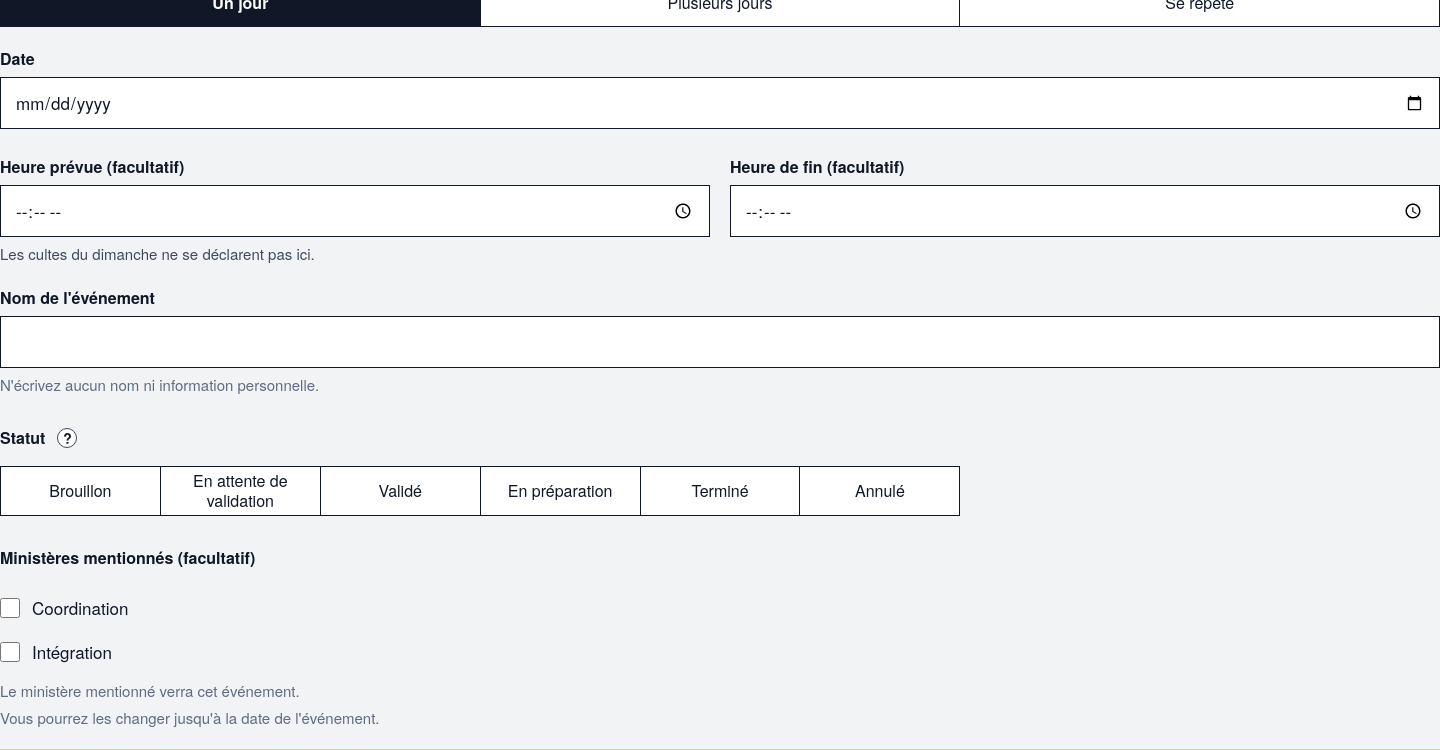
Test: « Ajouter un événement » (maquette 11) › date passée : refusée avant l’envoi, sous le champ, avec le lien « Signaler une difficulté »
Type "2026-10-05" into the date field labelled "Date" at [720, 103], box 0,77 -> 1439,129
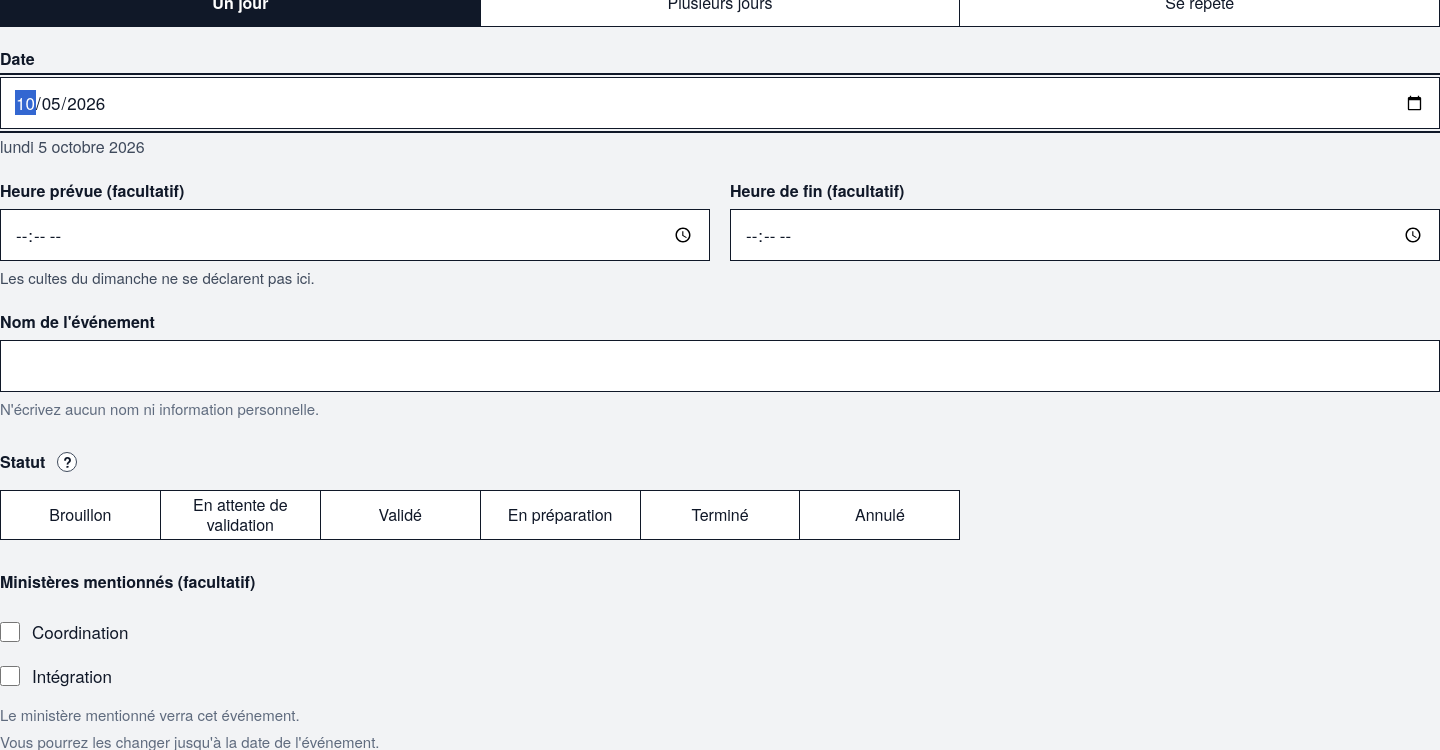
Type "  Soirée de louange " into the field labelled "Nom de l'événement" at [720, 366], box 0,340 -> 1439,392
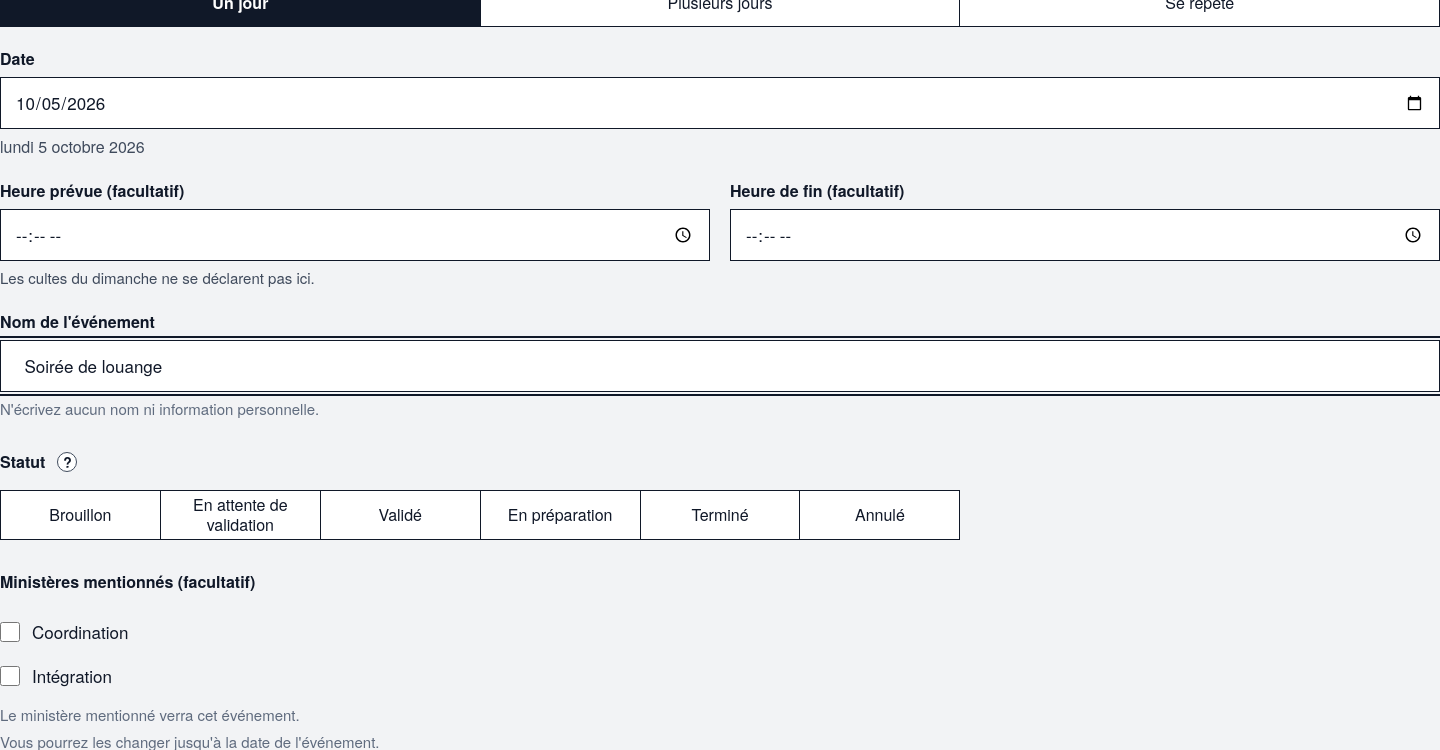
Click the radio button labelled "En attente de validation" at [240, 515], box 160,490 -> 321,540
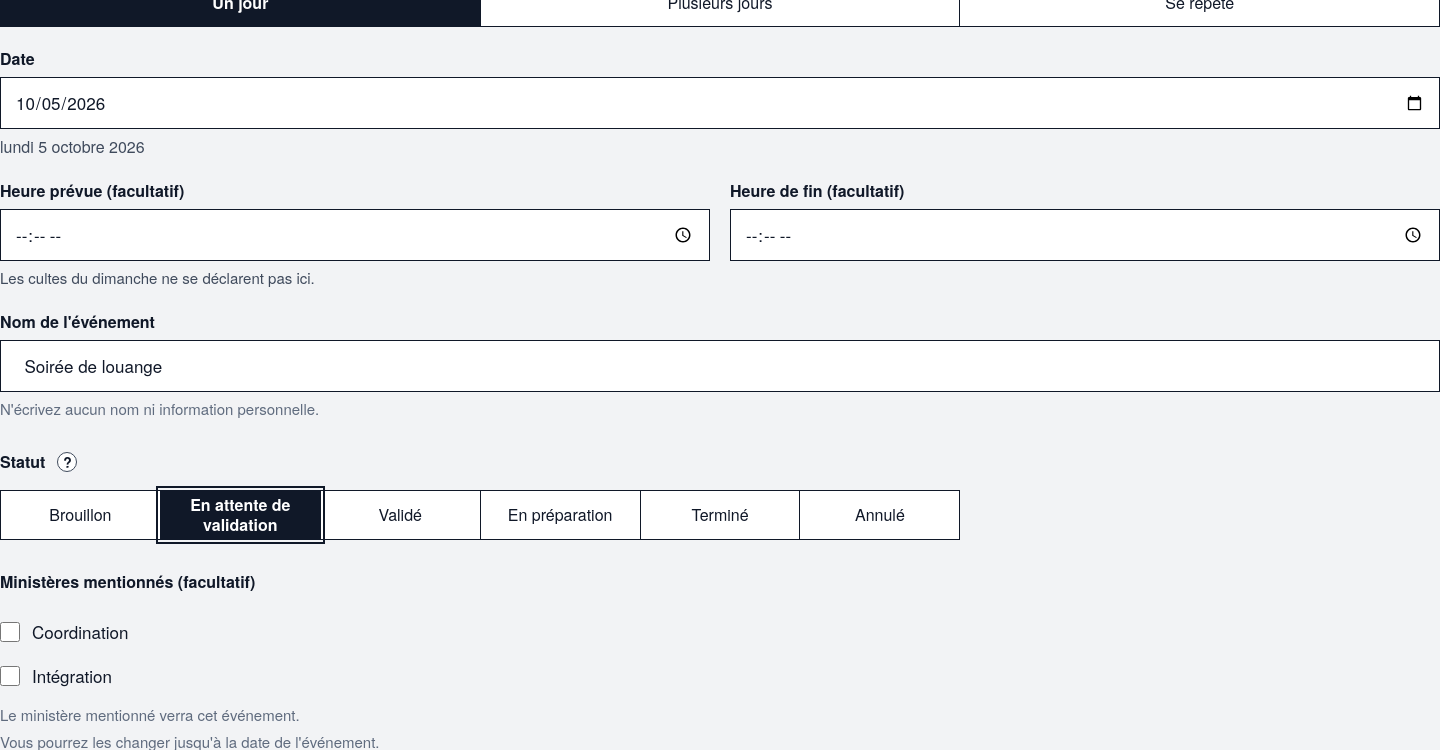
Click the checkbox labelled "Coordination" at [10, 632], box 0,622 -> 20,642
(page scrolled)
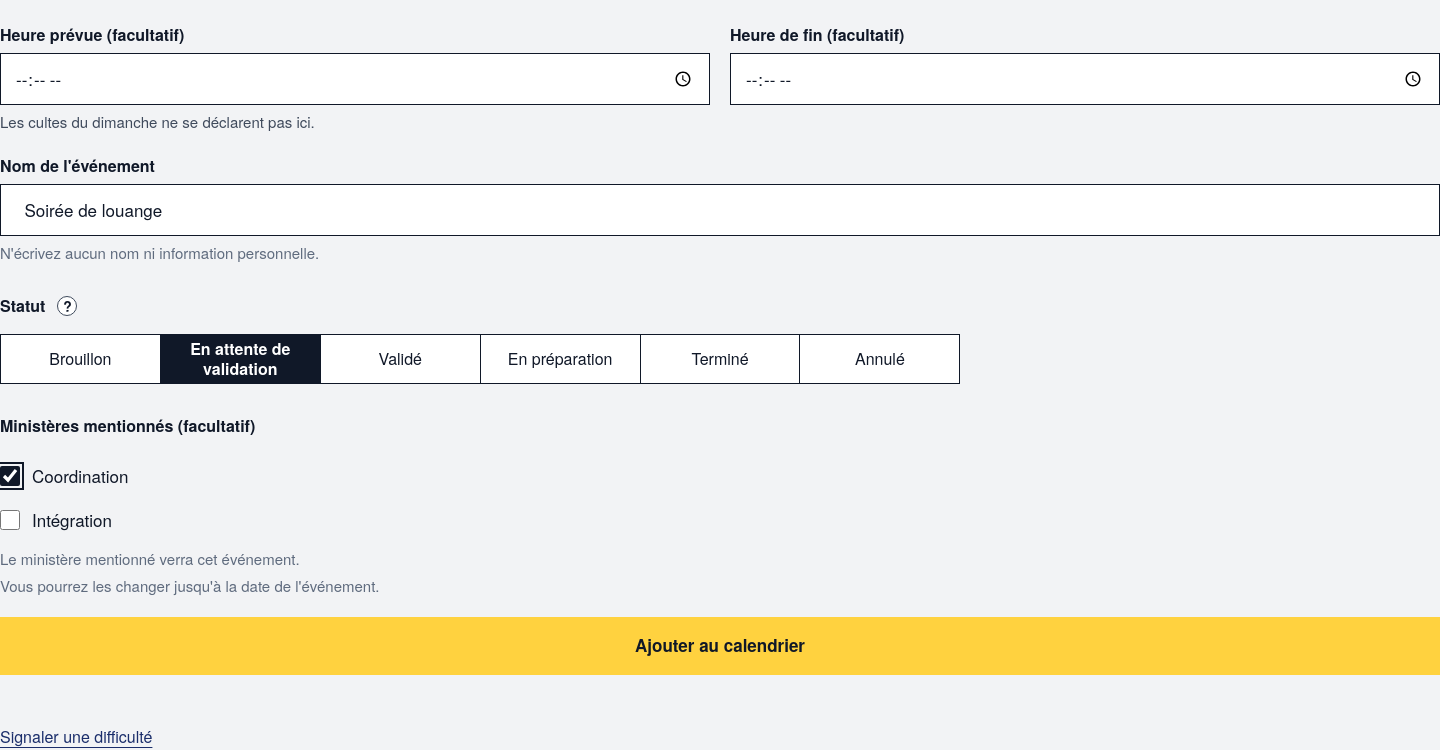
Click the button named "Ajouter au calendrier" at [720, 646], box 0,617 -> 1439,675
(page scrolled)
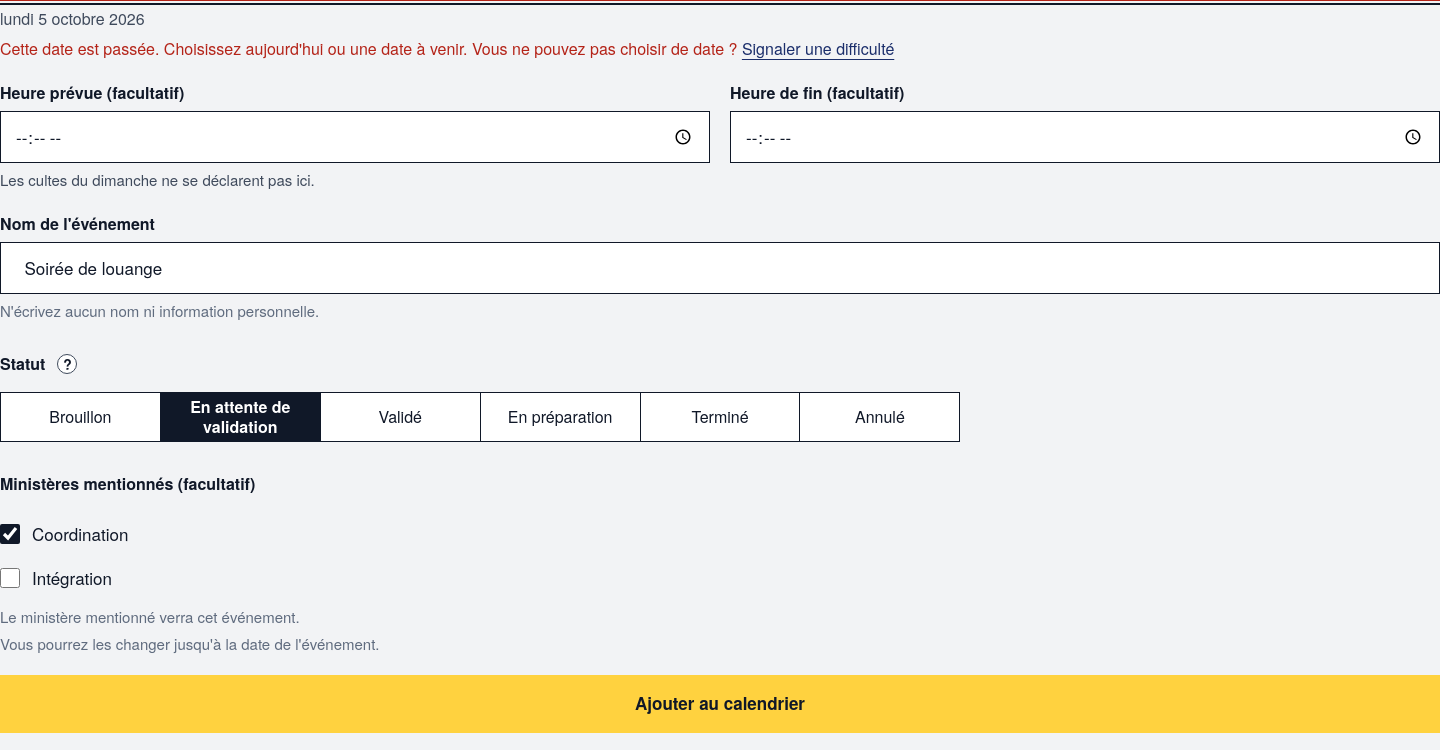
Result: the text "Cette date est passée." shows "Cette date est passée. Choisissez aujourd'hui ou une date à venir. Vous ne pouvez pas choisir de date ? Signaler une difficulté" at 0,37 -> 894,60
